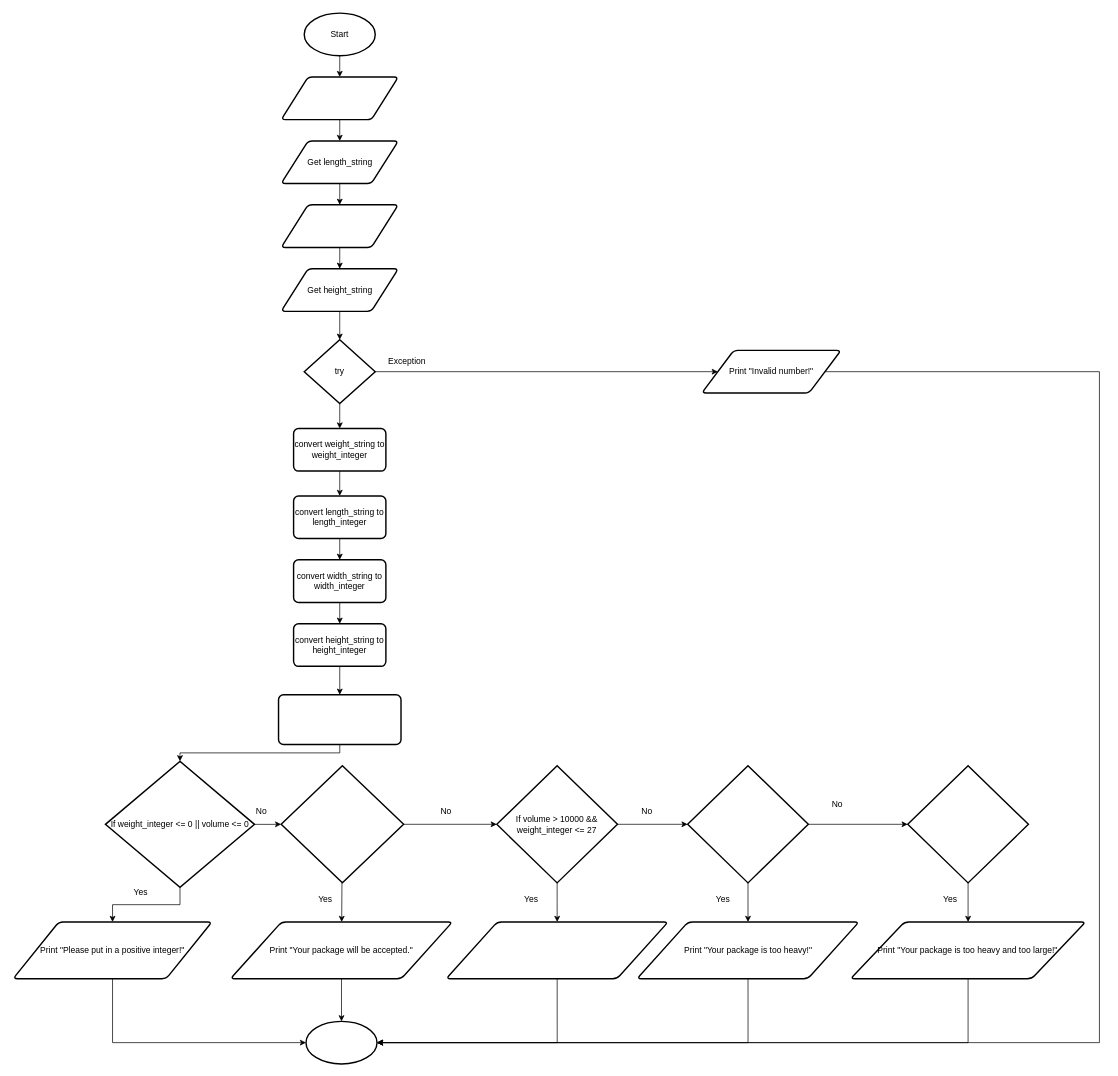
Some shapes in this 1118 by 1076 pixel diagram are drawn without their labels. Here are the shapes that lost their labels. From the top down, the box of each, then its label:
(280, 76, 399, 120): Get weight_string
(280, 204, 399, 248): Get width_string
(277, 694, 401, 745): volume = length_integer * width_integer * height_integer
(280, 765, 404, 883): If weight_integer <= 27 || volume <= 10000
(687, 765, 809, 883): If weight_integer > 27 && volume <= 10000
(907, 765, 1029, 883): If weight_integer > 27 && volume > 10000
(445, 921, 668, 979): Print "Your package is too large!"
(305, 1020, 377, 1064): Stop
